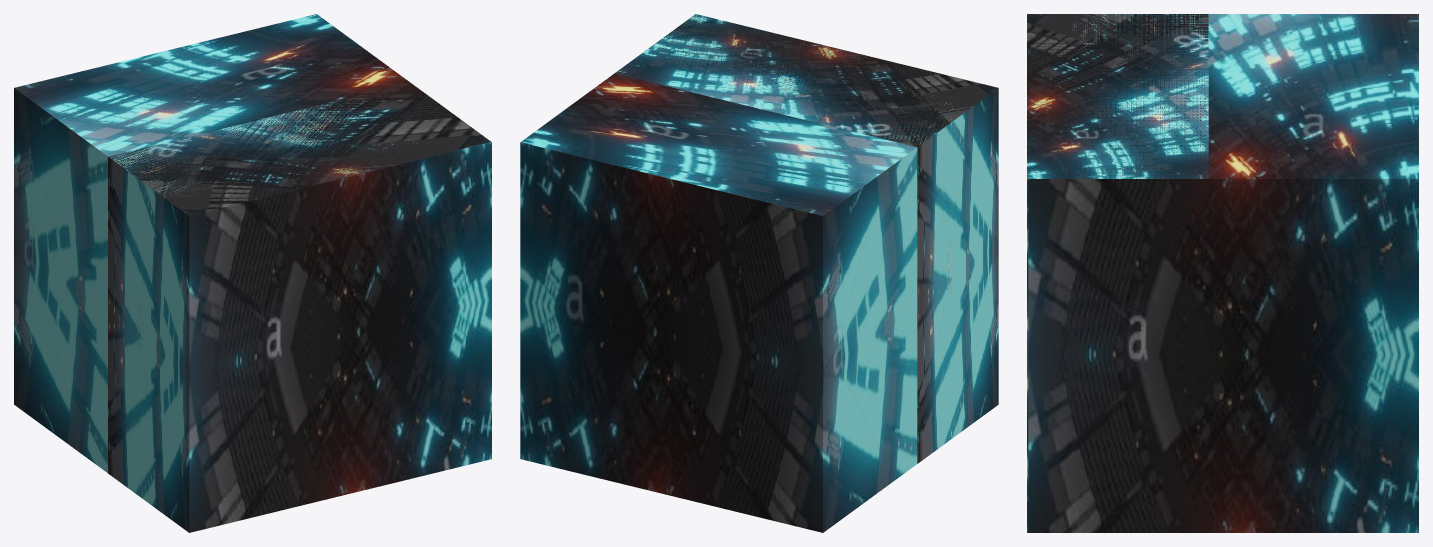
File: circuit_cube13.glb
3 views of the same model, side by side, from view 1: azimuth 30°, elevation 25°; view 2: azimuth 150°, elevation 25°; view 3: azimuth 270°, elevation 25° (orthographic). The views are drawn at different scales.
Parts seen in each view (by area): view 1: Cube, Cube.001; view 2: Cube.001, Cube; view 3: Cube.001, Cube.
Part boxes in pixels (x1=…): Cube: x1=108, y1=100, x2=491, y2=532; Cube.001: x1=14, y1=14, x2=490, y2=472; Cube.001: x1=520, y1=14, x2=976, y2=532; Cube: x1=615, y1=14, x2=998, y2=463; Cube.001: x1=1028, y1=14, x2=1418, y2=532; Cube: x1=1027, y1=14, x2=1208, y2=532.
Size of the model in its own units: 2 by 2 by 2.01.
1 material, 1 textured.
